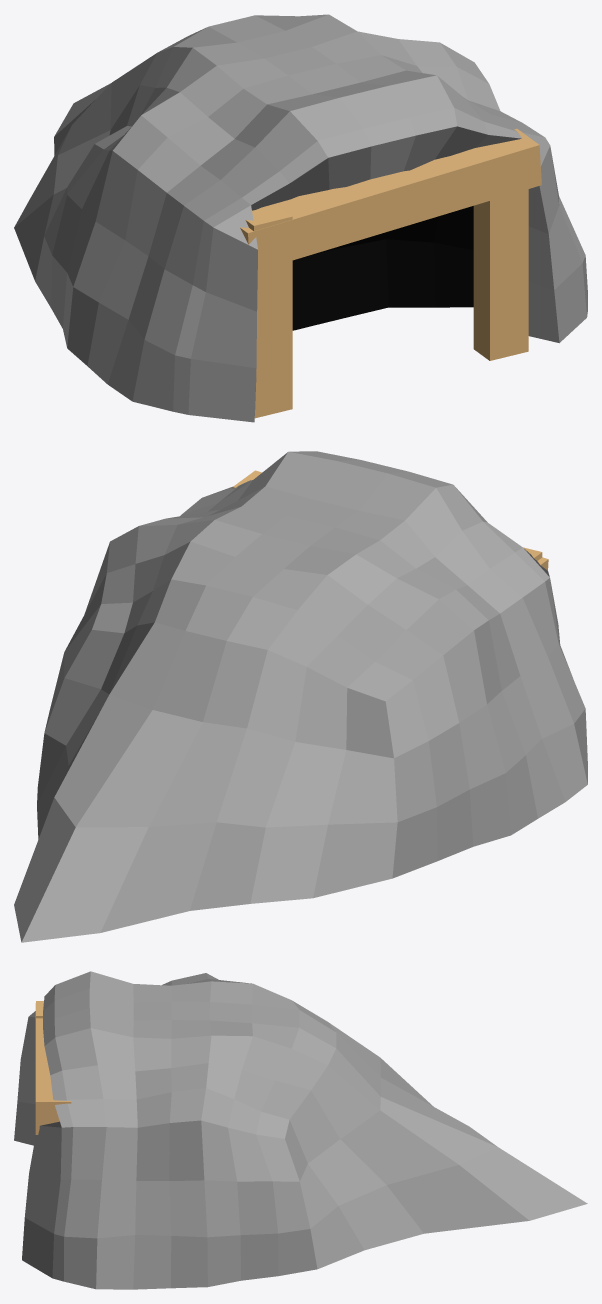
Rendered from IronMine.fbx.
3 renders of one model, top to bottom at view 1: azimuth 30°, elevation 25°; view 2: azimuth 150°, elevation 25°; view 3: azimuth 270°, elevation 25°, orthographic. The views are drawn at different scales.
Visible parts, largest first — view 1: Cube.001; view 2: Cube.001; view 3: Cube.001.
Boxes of the visible parts, x1,y1,x2,y2 form: Cube.001: [14, 14, 587, 422]; Cube.001: [14, 451, 587, 942]; Cube.001: [14, 971, 587, 1289].
Bounding box in the file's own units: 330 × 184 × 453.
